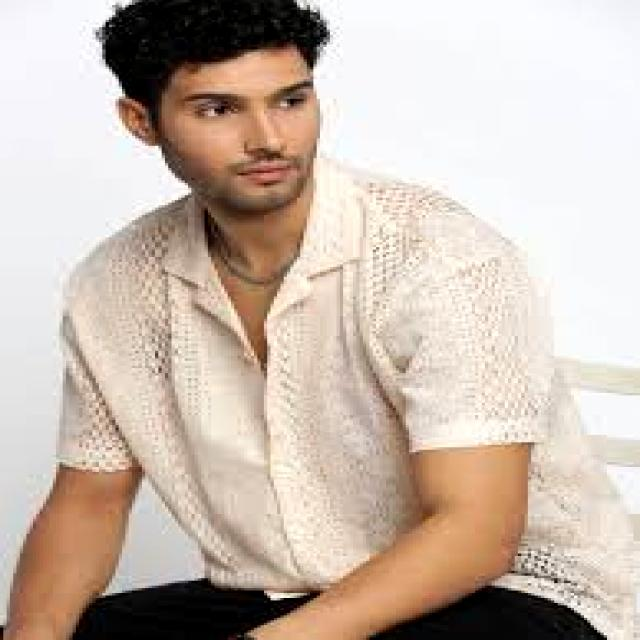face: (104, 0, 326, 208)
lower-wear: (18, 583, 609, 640)
top-wear: (62, 180, 640, 597)
